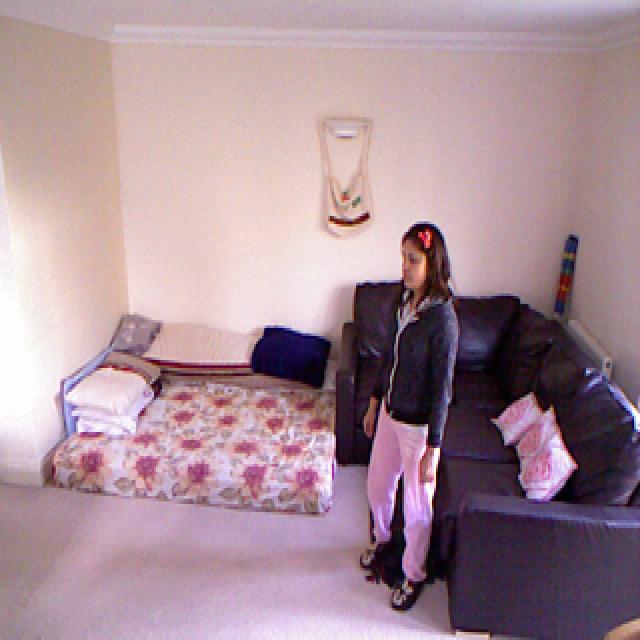standing: (362, 222, 458, 610)
